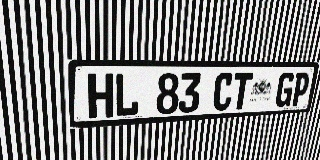3: (178, 73, 202, 113)
8: (156, 73, 180, 115)
C: (212, 73, 235, 111)
G: (274, 72, 296, 107)
H: (87, 73, 114, 119)
L: (114, 73, 139, 117)
P: (290, 72, 311, 106)
T: (231, 72, 253, 110)
